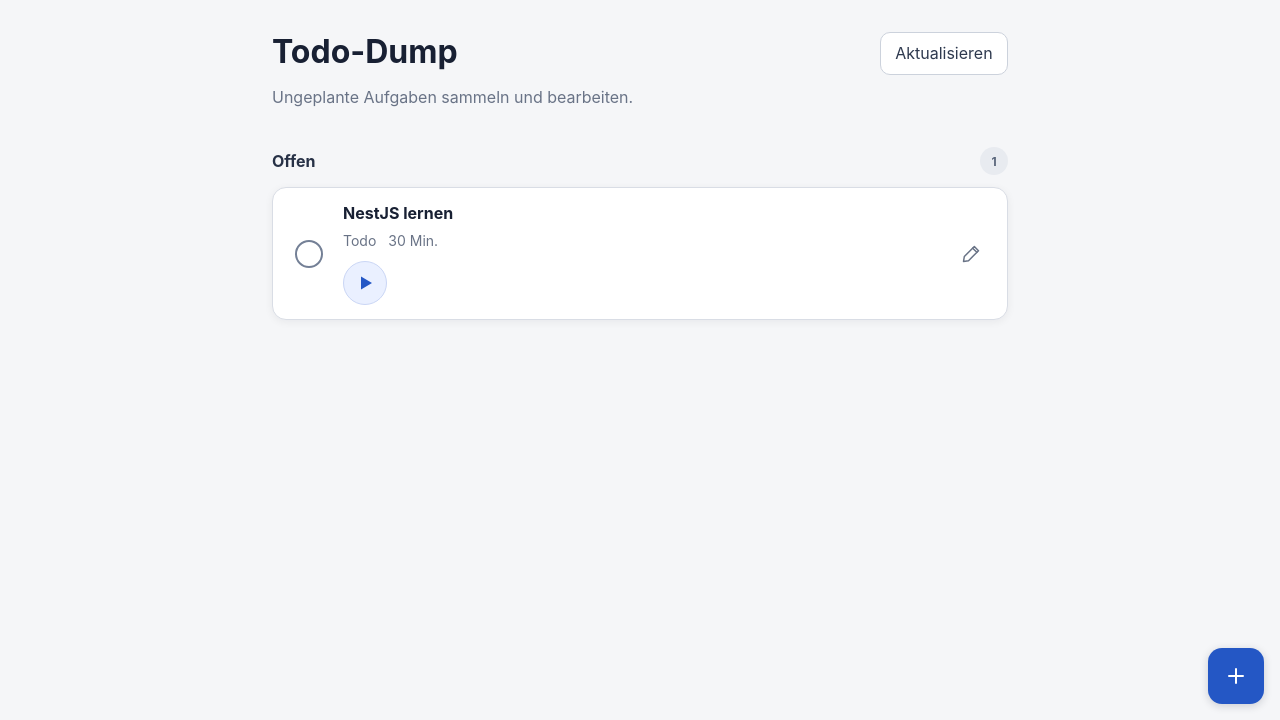
Test: TodoDumpView › removes a newly completed todo after reloading the backlog
Click the button named "NestJS lernen erledigen" at (309, 254), box [287,232,331,276]
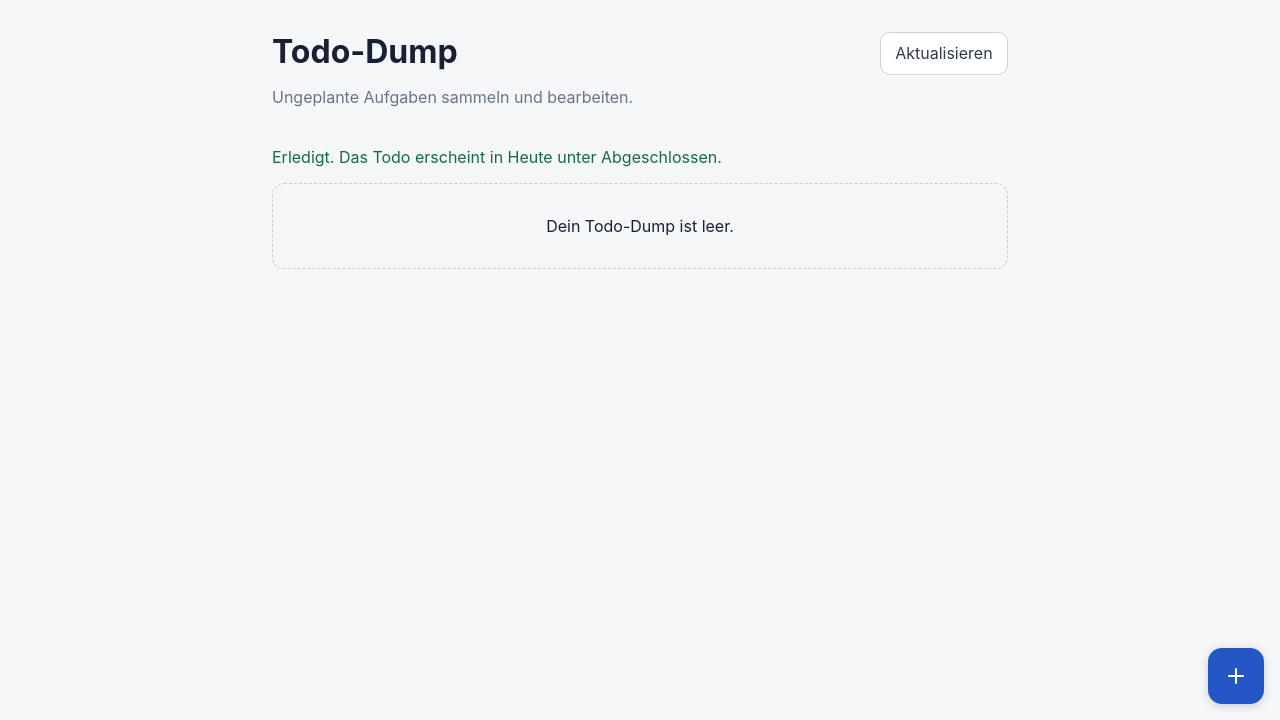
Expected: the text "Heute unter Abgeschlossen" is shown, [272,147,722,167]
